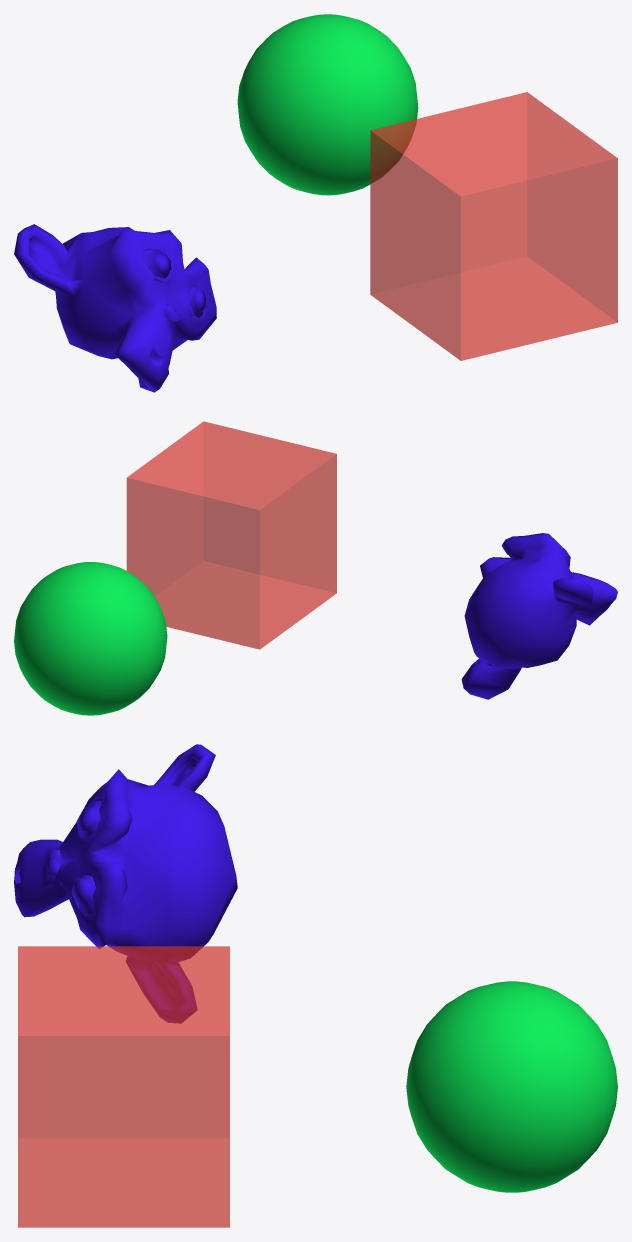
The picture shows the model from 3 angles, top to bottom: view 1: azimuth 30°, elevation 25°; view 2: azimuth 150°, elevation 25°; view 3: azimuth 270°, elevation 25°; orthographic projection. The views are drawn at different scales.
Parts seen in each view (by area): view 1: Cube, Sphere, Suzanne; view 2: Cube, Sphere, Suzanne; view 3: Cube, Sphere, Suzanne.
Part boxes in pixels (x1,y1,x2,y2): Cube: [370, 92, 617, 360]; Sphere: [237, 14, 418, 195]; Suzanne: [14, 224, 216, 392]; Cube: [126, 421, 336, 649]; Sphere: [14, 562, 167, 715]; Suzanne: [461, 533, 617, 699]; Cube: [18, 946, 229, 1227]; Sphere: [406, 981, 617, 1192]; Suzanne: [14, 744, 237, 1023].
Size of what is drawn, in the model's own units: 677 by 234 by 571.
